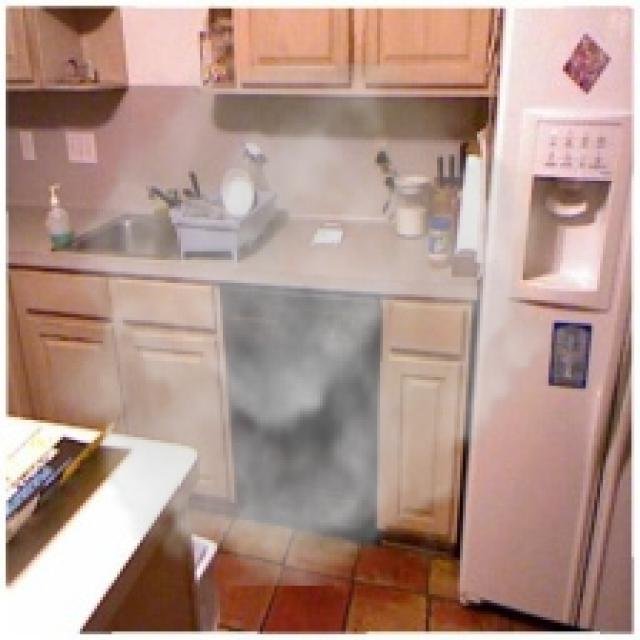smoke: (40, 63, 569, 586)
